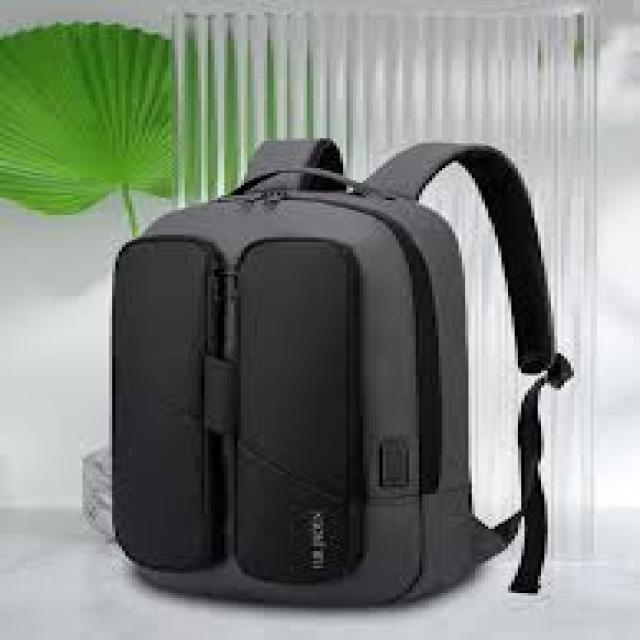backpack: (107, 137, 572, 606)
